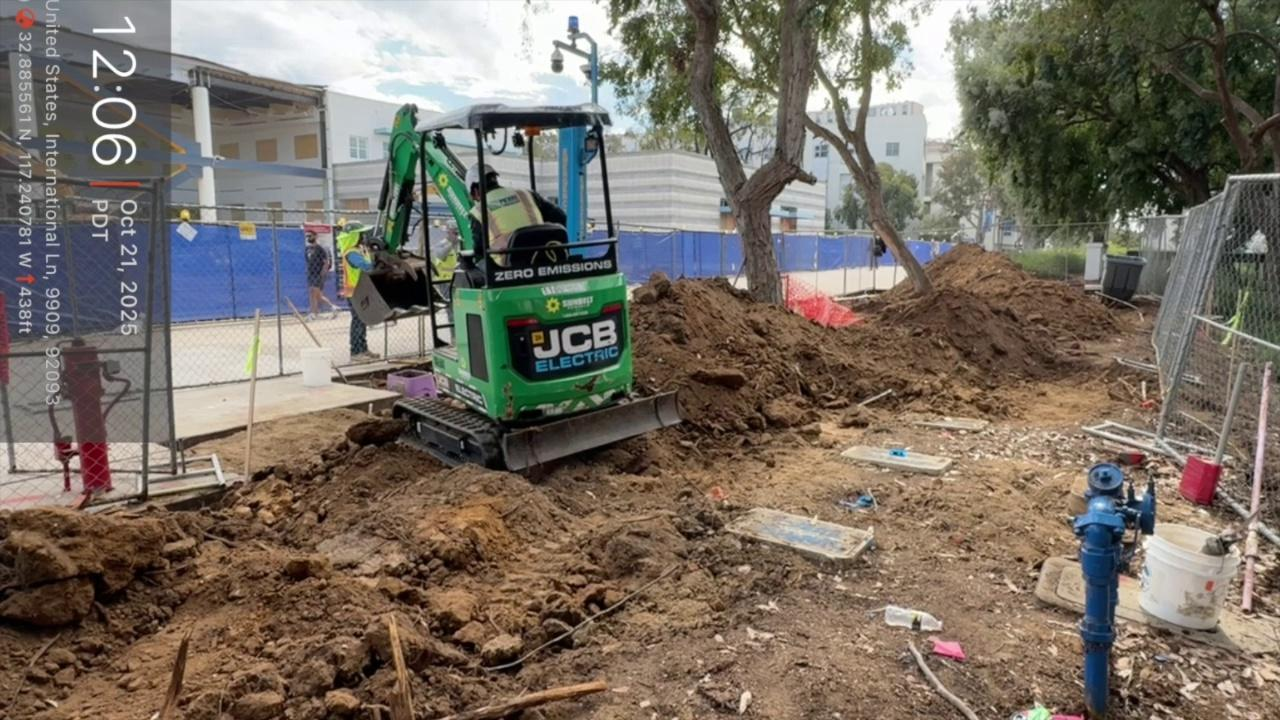Exacavator: (337, 97, 685, 477)
